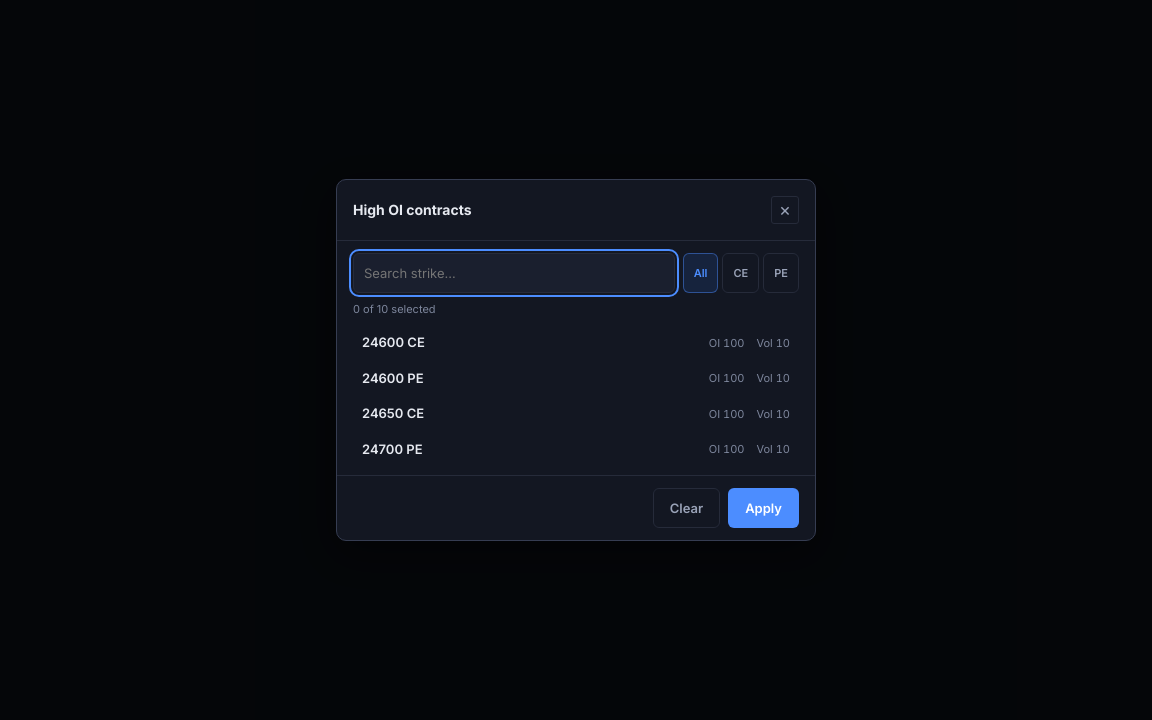
Scenario: ContractPicker › filters by side
The image size is (1152, 720).
Click the button "PE" at [781, 273], box [763,253,799,293]
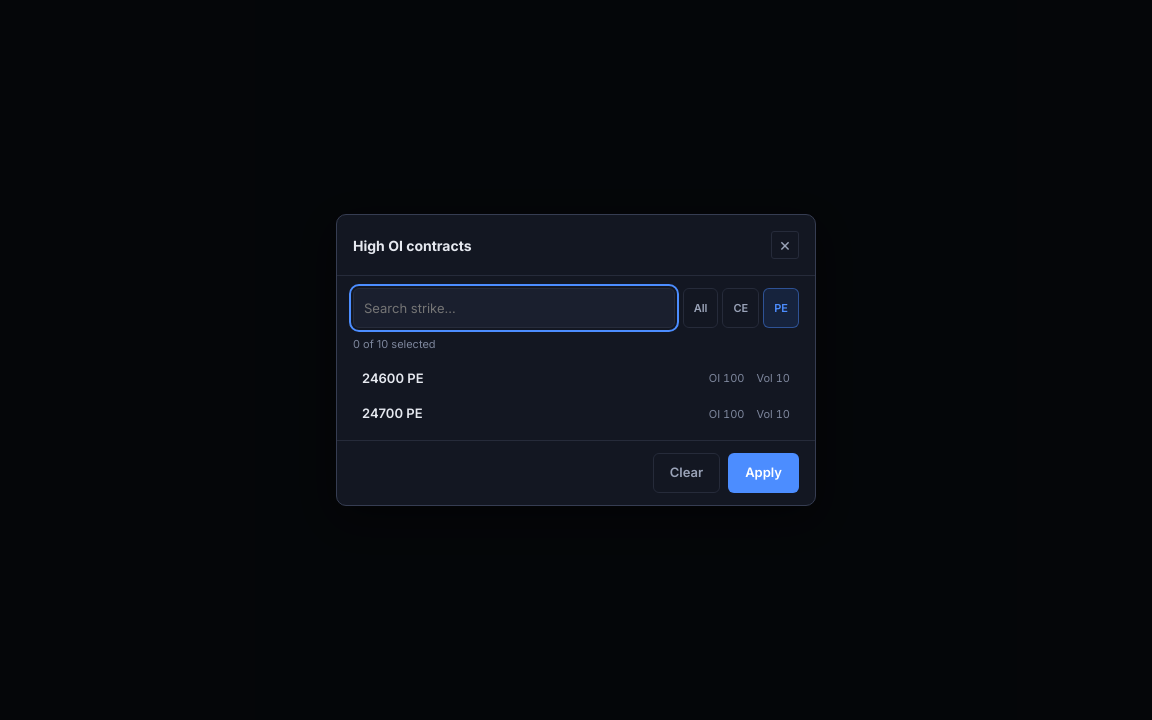
Expected: the text "24600 PE" is shown, [362,370,424,386]
Expected: the button "24600 CE" is gone
